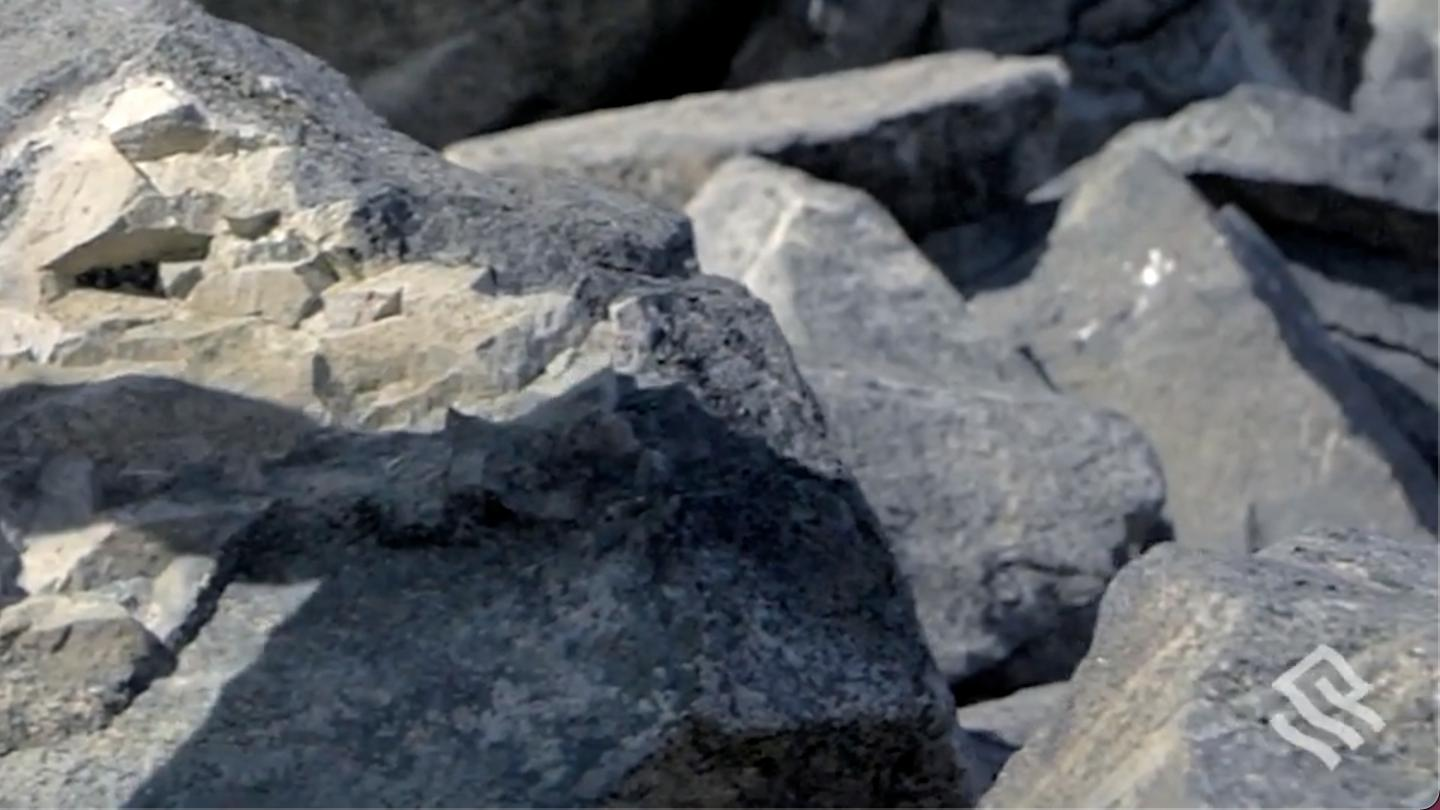Chinstrap Penguin: (0, 0, 494, 713)
